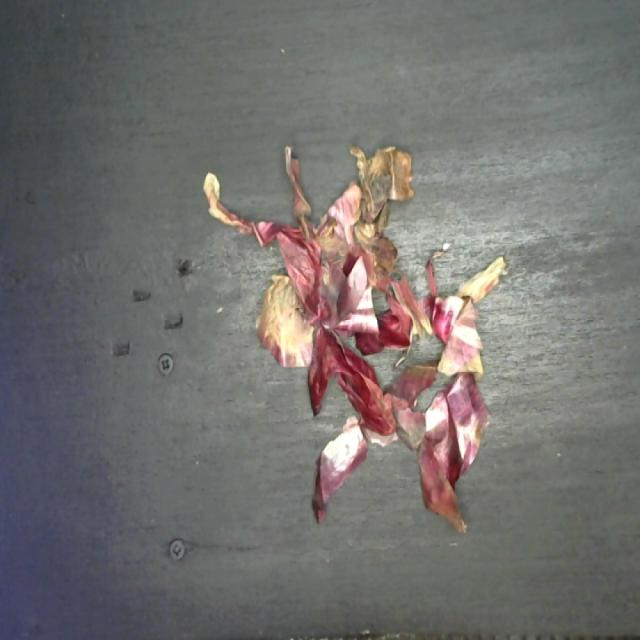biodegradable: (203, 140, 513, 536)
